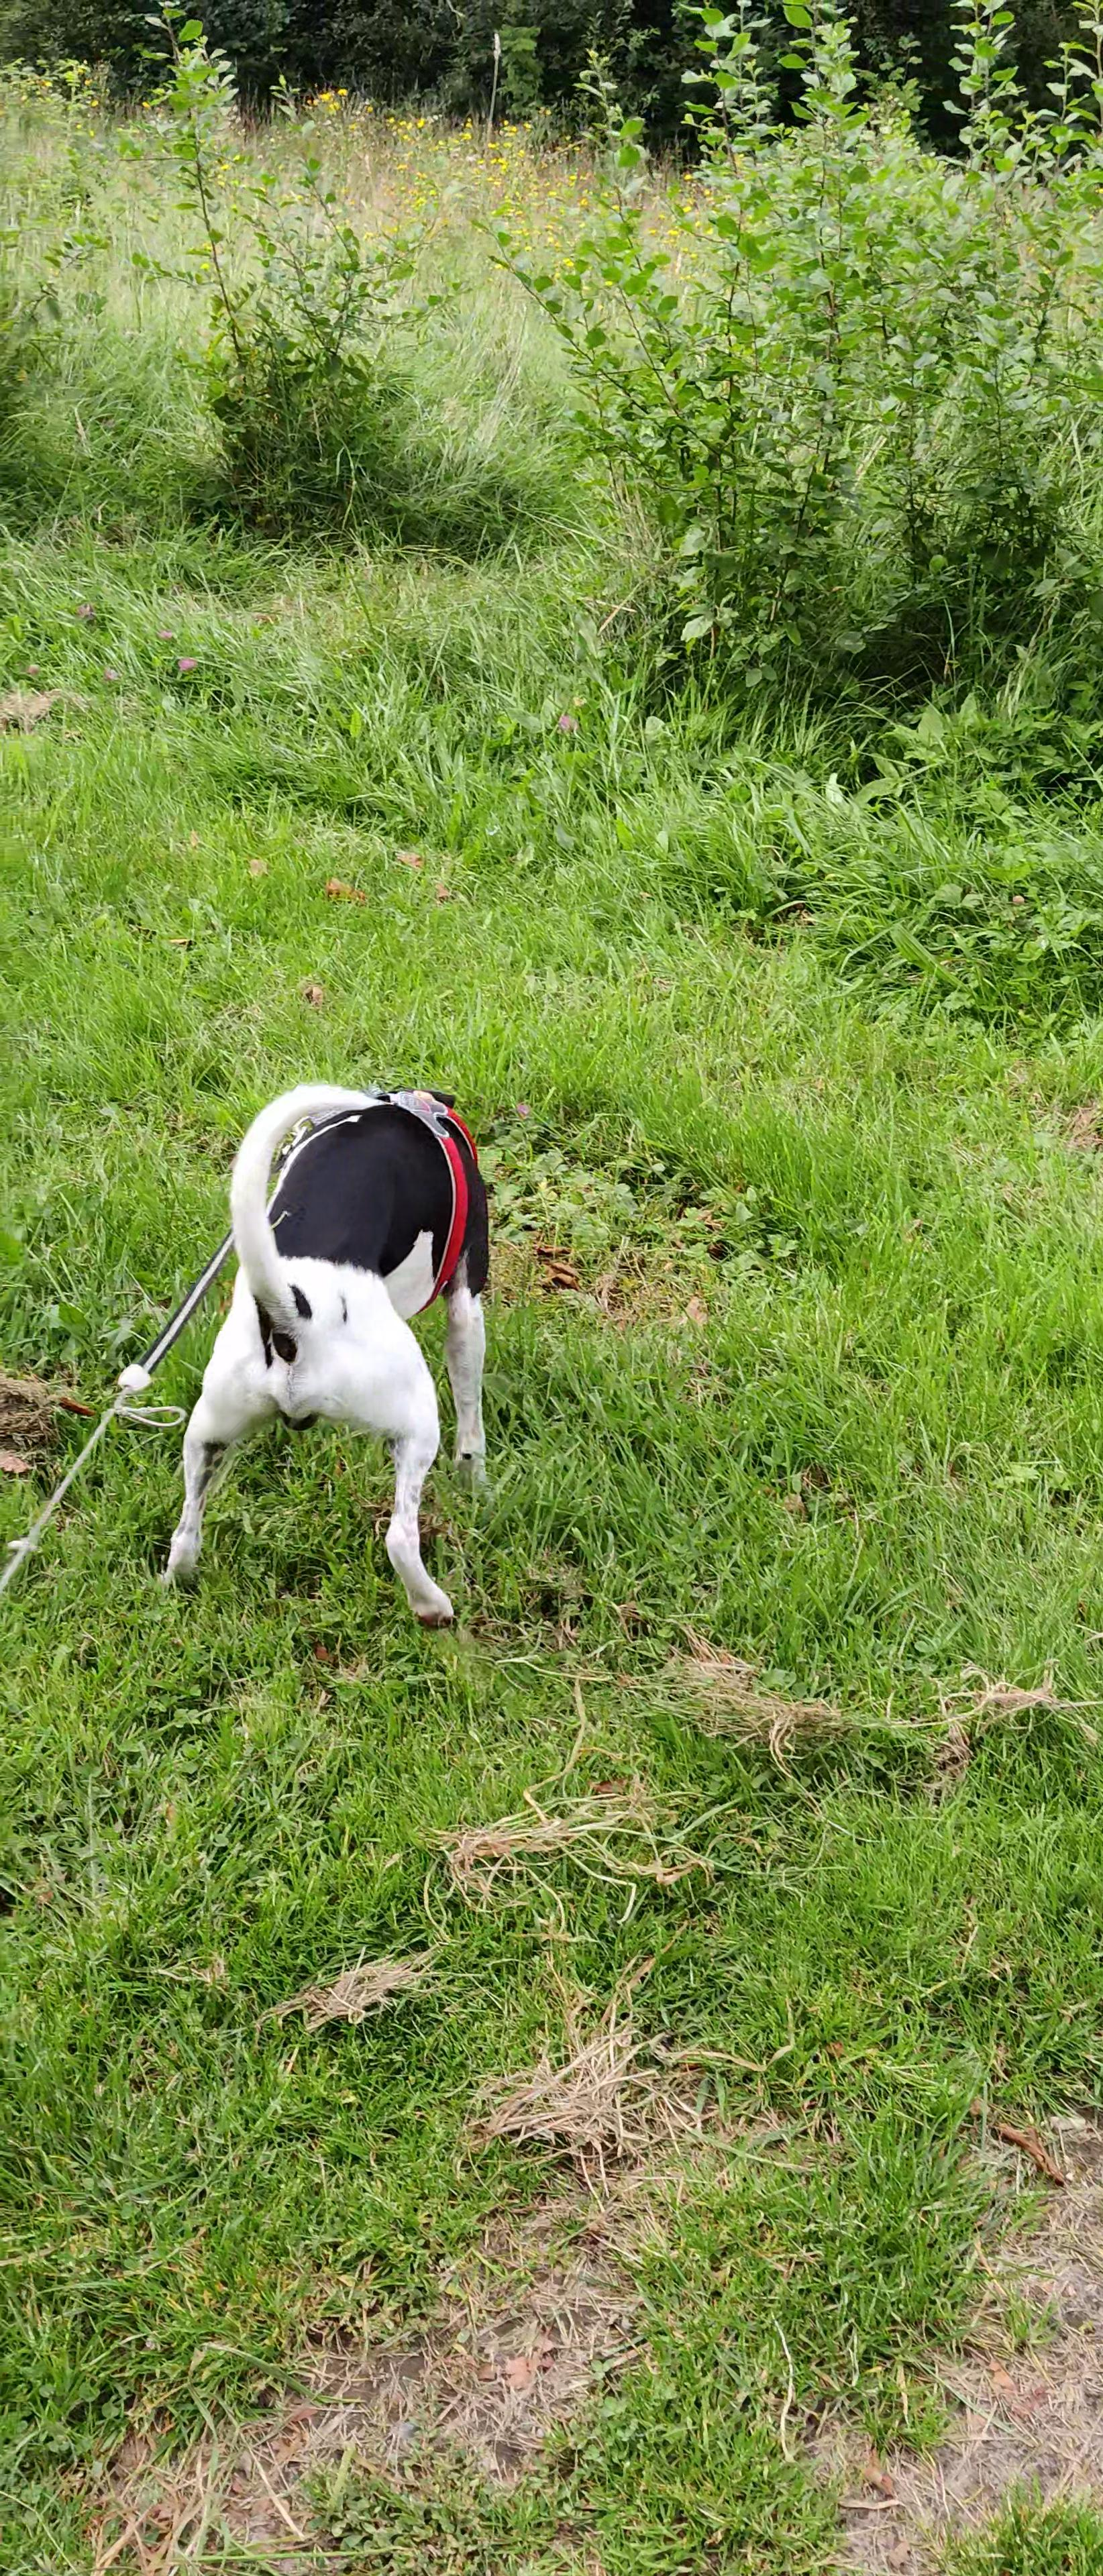Dog: (115, 996, 533, 1687)
